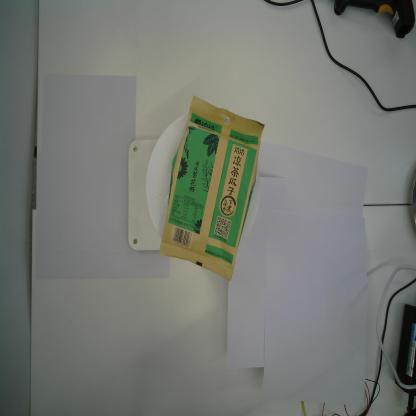Dried Food: (157, 92, 265, 283)
